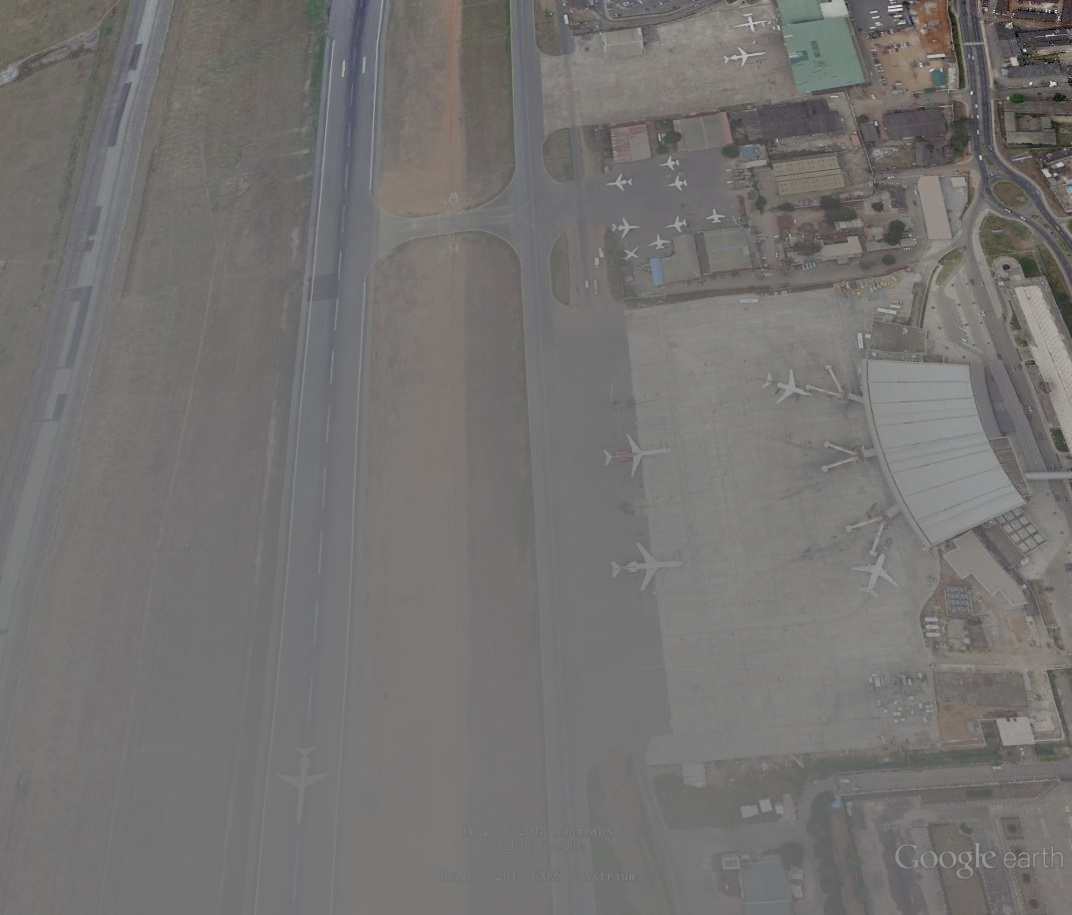aircraft: (274, 743, 337, 828), (607, 540, 685, 601), (600, 431, 673, 479), (849, 551, 902, 603), (761, 367, 814, 404), (722, 45, 771, 71), (731, 10, 771, 35), (607, 215, 642, 241), (604, 172, 634, 194), (647, 232, 676, 253), (702, 208, 729, 227), (666, 215, 690, 236), (666, 174, 690, 195), (659, 154, 682, 173), (621, 245, 643, 264)
